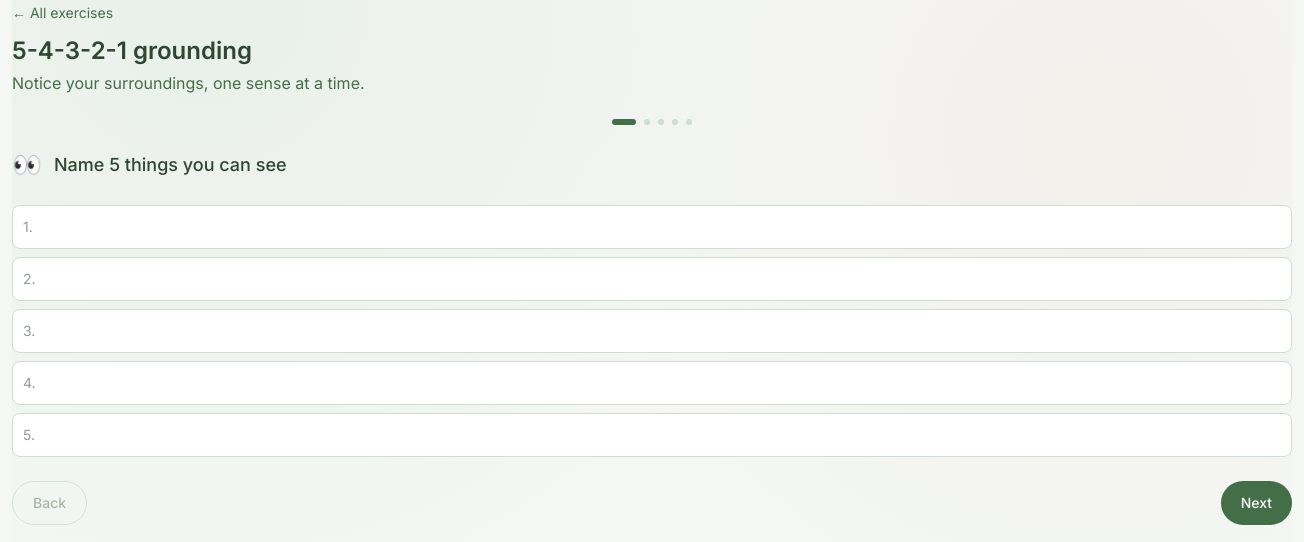
Test: Grounding exercise › lets you go back a step
Click the button "Next" at (1256, 503), box [1221,481,1292,525]
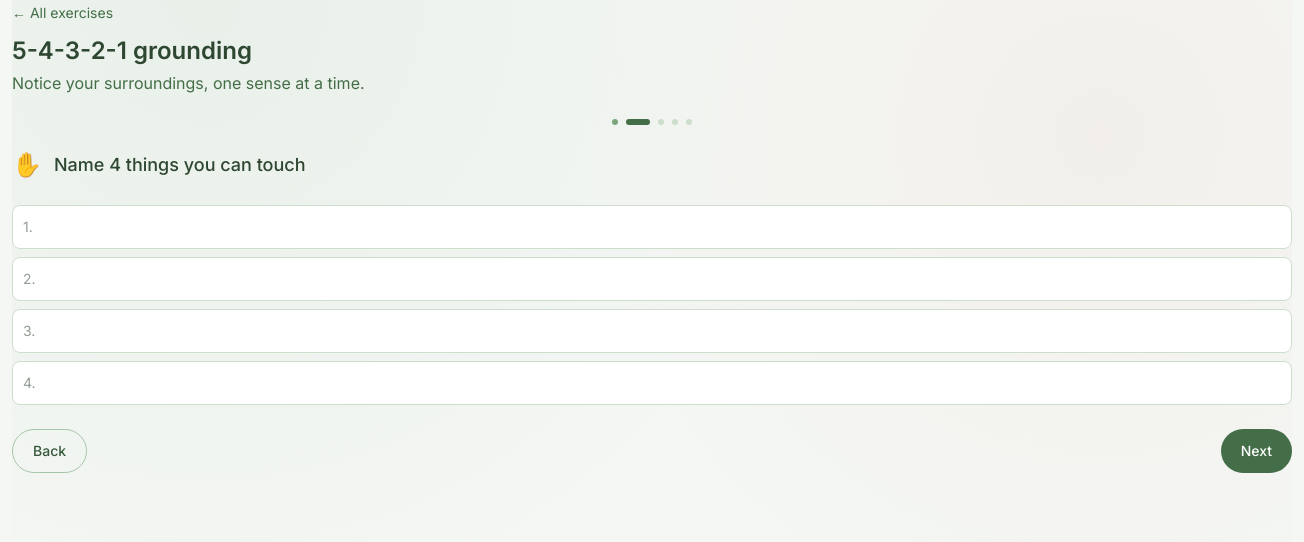
Check: the text "Name 4 things you can touch" is shown, box [54,151,306,179]
Click the button "Back" at (50, 451), box [12,429,87,473]
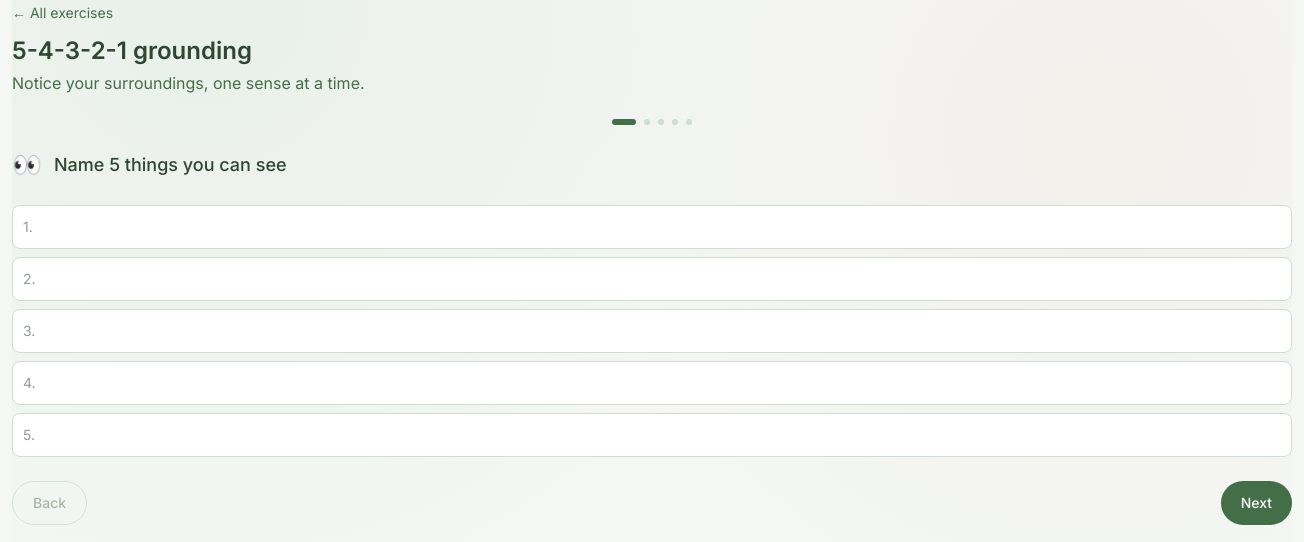
Check: the text "Name 5 things you can see" is shown, box [54,151,286,179]
